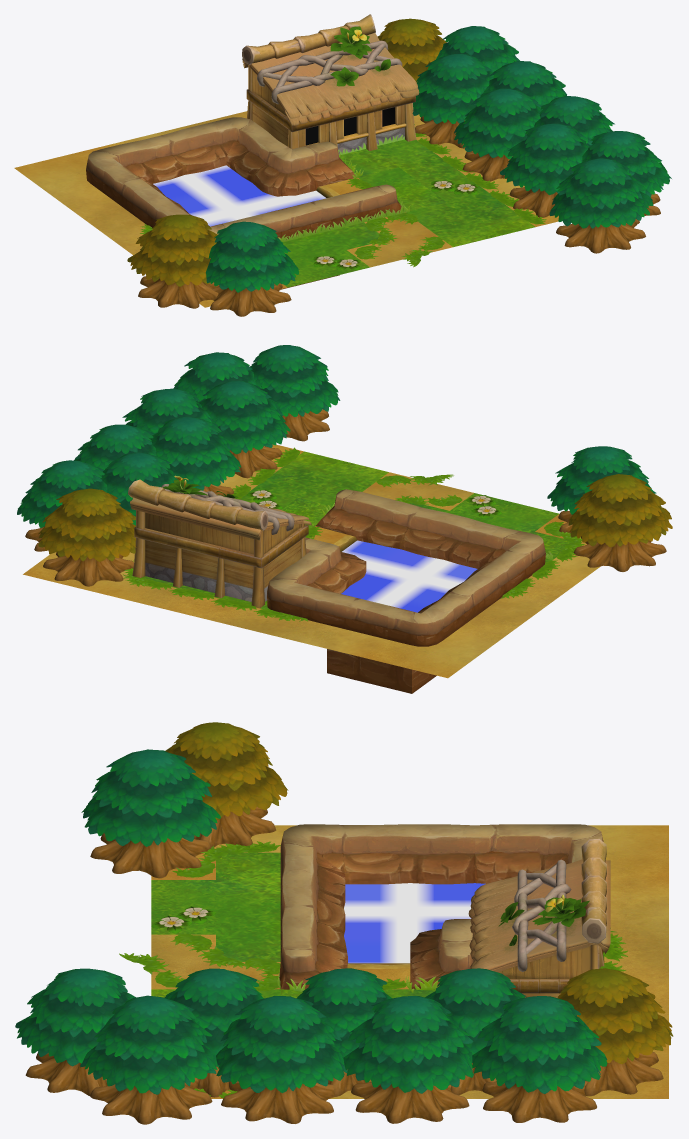
Rendered from Field_9B.fbx.
The picture shows the model from 3 angles, top to bottom: view 1: azimuth 30°, elevation 25°; view 2: azimuth 150°, elevation 25°; view 3: azimuth 270°, elevation 25°; orthographic projection. The views are drawn at different scales.
Parts seen in each view (by area): view 1: Field_09B1__MI_Tree_01, Field_09B1__MI_f_wall_a_01, Field_09B1__MI_BdFishing_01, Field_09B1__MI_f_grass_a_01, Field_09B1__MI_f_grass_b_01, Field_09B1__MI_MysteriousTree_01, Field_09B1__MI_Tree_02, Field_09B1__MI_f_water_a_01, Field_09B1__MI_f_grass_a_03, Field_09B1__MI_MysteriousTree_02, Field_09B1__MI_f_wall_a_01_w, Field_09B1__MI_BdFishing_02 (+2 smaller); view 2: Field_09B1__MI_Tree_01, Field_09B1__MI_f_wall_a_01, Field_09B1__MI_f_grass_b_01, Field_09B1__MI_BdFishing_01, Field_09B1__MI_MysteriousTree_01, Field_09B1__MI_f_grass_a_01, Field_09B1__MI_f_water_a_01, Field_09B1__MI_f_grass_a_03, Field_09B1__MI_MysteriousTree_02, Field_09B1__MI_Tree_02, Field_09B1__MI_f_wall_a_01a_w, Field_09B1__MI_f_wall_a_01_w (+1 smaller); view 3: Field_09B1__MI_Tree_01, Field_09B1__MI_f_wall_a_01, Field_09B1__MI_Tree_02, Field_09B1__MI_f_grass_b_01, Field_09B1__MI_BdFishing_01, Field_09B1__MI_MysteriousTree_01, Field_09B1__MI_f_grass_a_01, Field_09B1__MI_f_water_a_01, Field_09B1__MI_f_grass_a_03, Field_09B1__MI_MysteriousTree_02, Field_09B1__MI_f_wall_a_01_w, Field_09B1__MI_BdFishing_02 (+1 smaller).
Boxes of the visible parts, left/top/right/bottom form: Field_09B1__MI_Tree_01: left=205, top=26, right=671, bottom=292; Field_09B1__MI_f_wall_a_01: left=86, top=117, right=401, bottom=239; Field_09B1__MI_BdFishing_01: left=242, top=14, right=419, bottom=155; Field_09B1__MI_f_grass_a_01: left=283, top=139, right=535, bottom=287; Field_09B1__MI_f_grass_b_01: left=14, top=111, right=558, bottom=307; Field_09B1__MI_MysteriousTree_01: left=127, top=18, right=446, bottom=286; Field_09B1__MI_Tree_02: left=210, top=116, right=660, bottom=316; Field_09B1__MI_f_water_a_01: left=153, top=165, right=326, bottom=226; Field_09B1__MI_f_grass_a_03: left=140, top=124, right=546, bottom=267; Field_09B1__MI_MysteriousTree_02: left=138, top=105, right=413, bottom=308; Field_09B1__MI_f_wall_a_01_w: left=145, top=157, right=355, bottom=196; Field_09B1__MI_BdFishing_02: left=330, top=26, right=390, bottom=86; Field_09B1__MI_Tree_01: left=17, top=345, right=656, bottom=527; Field_09B1__MI_f_wall_a_01: left=267, top=489, right=545, bottom=646; Field_09B1__MI_f_grass_b_01: left=23, top=444, right=600, bottom=678; Field_09B1__MI_BdFishing_01: left=128, top=479, right=311, bottom=608; Field_09B1__MI_MysteriousTree_01: left=38, top=474, right=672, bottom=561; Field_09B1__MI_f_grass_a_01: left=144, top=451, right=568, bottom=609; Field_09B1__MI_f_water_a_01: left=341, top=540, right=477, bottom=612; Field_09B1__MI_f_grass_a_03: left=123, top=447, right=584, bottom=621; Field_09B1__MI_MysteriousTree_02: left=43, top=540, right=666, bottom=586; Field_09B1__MI_Tree_02: left=25, top=409, right=581, bottom=551; Field_09B1__MI_f_wall_a_01a_w: left=327, top=649, right=436, bottom=693; Field_09B1__MI_f_wall_a_01_w: left=316, top=521, right=485, bottom=593; Field_09B1__MI_Tree_01: left=15, top=749, right=607, bottom=1094; Field_09B1__MI_f_wall_a_01: left=279, top=824, right=603, bottom=989; Field_09B1__MI_Tree_02: left=25, top=833, right=596, bottom=1124; Field_09B1__MI_f_grass_b_01: left=151, top=825, right=668, bottom=1098; Field_09B1__MI_BdFishing_01: left=468, top=839, right=610, bottom=997; Field_09B1__MI_MysteriousTree_01: left=165, top=722, right=673, bottom=1065; Field_09B1__MI_f_grass_a_01: left=151, top=852, right=604, bottom=998; Field_09B1__MI_f_water_a_01: left=344, top=883, right=485, bottom=963; Field_09B1__MI_f_grass_a_03: left=119, top=841, right=627, bottom=1098; Field_09B1__MI_MysteriousTree_02: left=194, top=806, right=663, bottom=1096; Field_09B1__MI_f_wall_a_01_w: left=342, top=872, right=517, bottom=989; Field_09B1__MI_BdFishing_02: left=498, top=895, right=589, bottom=945.
Bounding box in the file's own units: 1844 × 567 × 1532.
